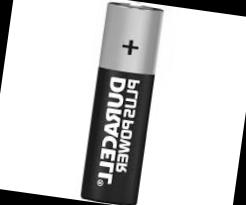battery: (62, 0, 181, 205)
